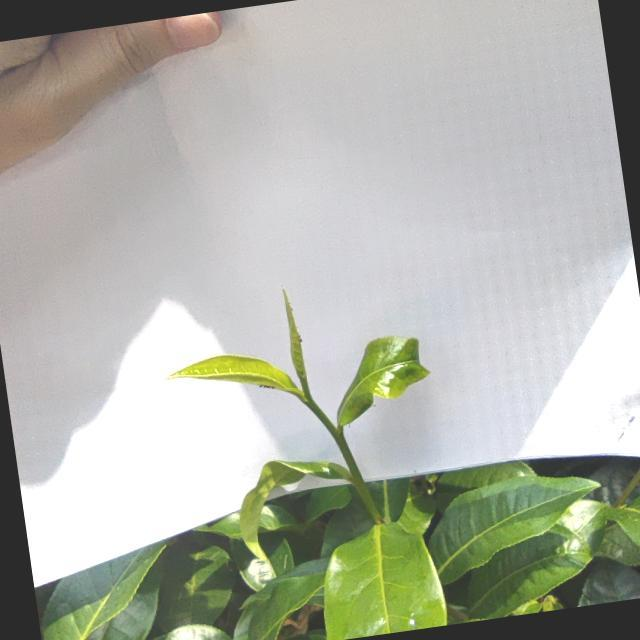Stem: (303, 396, 318, 411)
